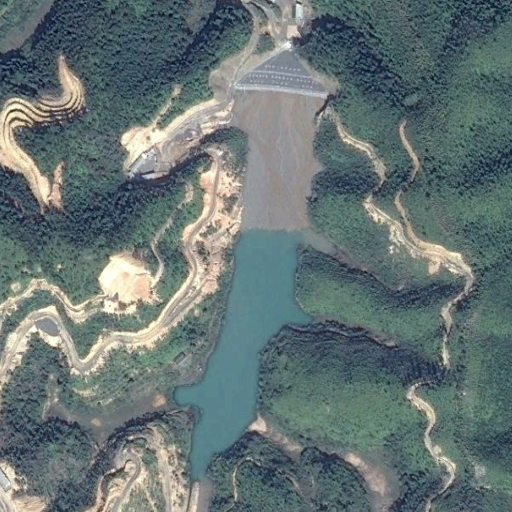tp: (129, 39, 335, 484)
